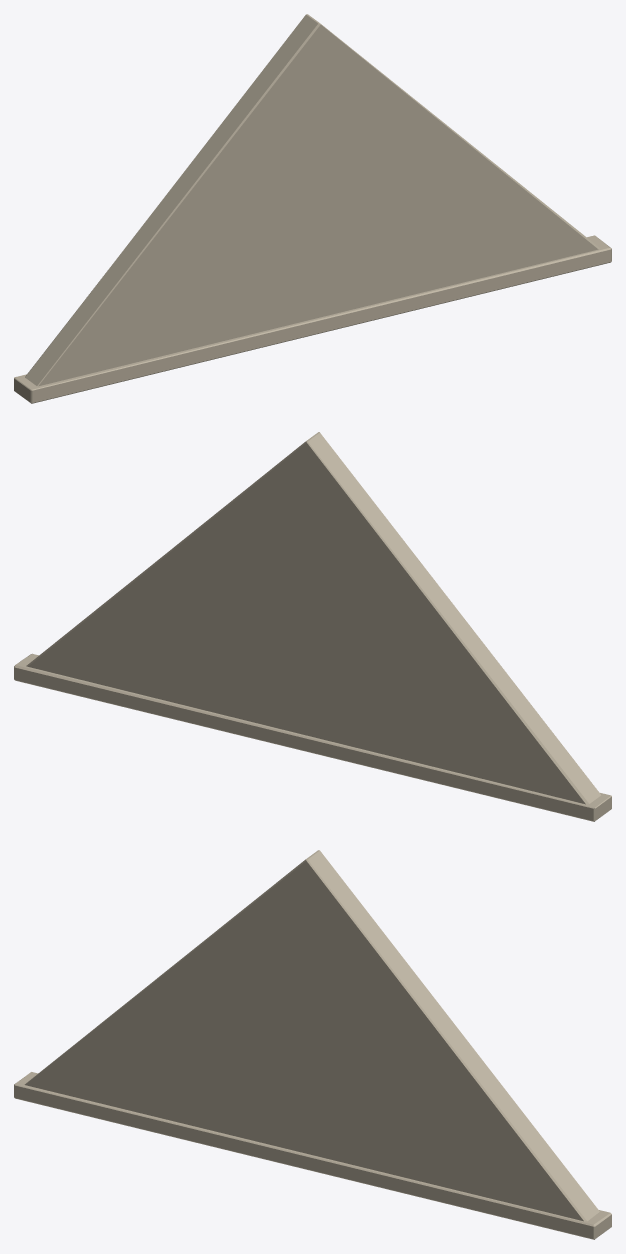
File: gable_r12.fbx
The picture shows the model from 3 angles, top to bottom: view 1: azimuth 30°, elevation 25°; view 2: azimuth 150°, elevation 25°; view 3: azimuth 330°, elevation 25°; orthographic projection.
Visible parts, largest first — view 1: gable_r12; view 2: gable_r12; view 3: gable_r12.
Boxes of the visible parts, <box> form: gable_r12: <box>14,14,611,403</box>; gable_r12: <box>14,432,611,821</box>; gable_r12: <box>14,850,611,1239</box>.
Bounding box in the file's own units: 2440 × 1236 × 130.
